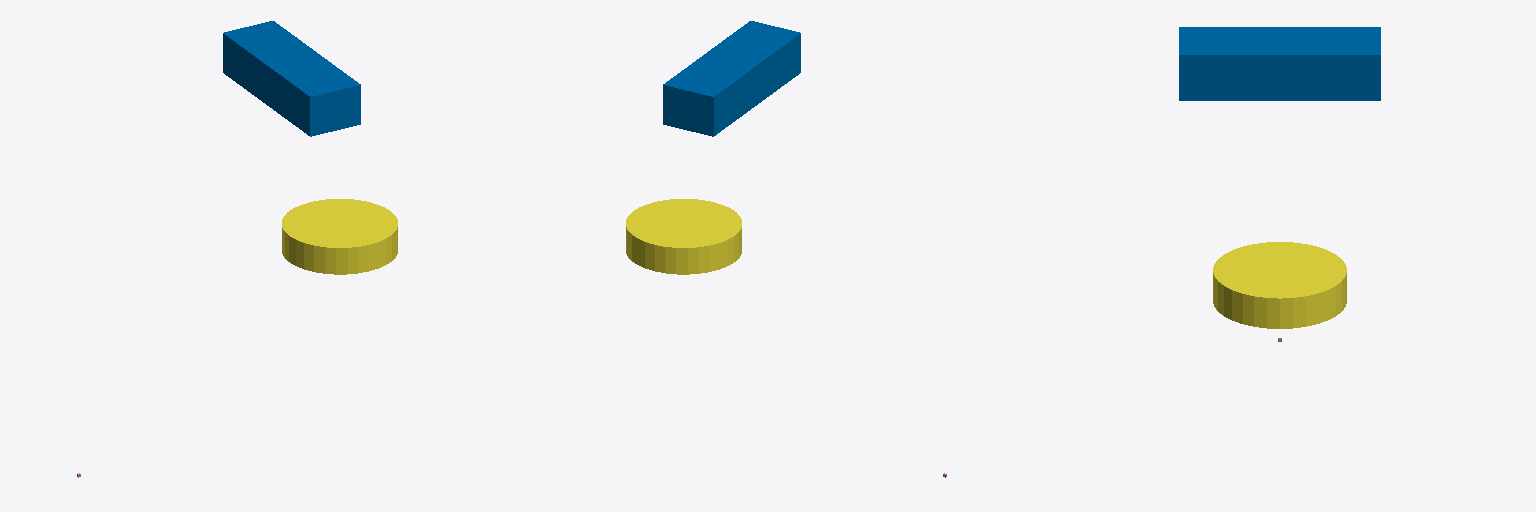
URDF robot description (ackermann):
<?xml version="1.0" ?>
<!--
  Author: [author]
  Date: 2023-02-01
  Description: This file is the URDF file for the Ackermann model we're using for our planning algorithms. The original comes from AgileX robotics 
  but I have modified it to fit our needs. The original can be found here: https://github.com/agilexrobotics/limo_ros
  License: MIT
  -->

<!-- =================================================================================== -->
<!-- |    This document was autogenerated by xacro from limo_ackerman.xacro            | -->
<!-- |    EDITING THIS FILE BY HAND IS NOT RECOMMENDED                                 | -->
<!-- =================================================================================== -->
<robot name="ackermann">
  <transmission name="front_right_wheel_trans" type="SimpleTransmission">
    <type>transmission_interface/SimpleTransmission</type>
    <actuator name="front_right_wheel_motor">
      <hardwareInterface>hardware_interface/VelocityJointInterface</hardwareInterface>
      <mechanicalReduction>1</mechanicalReduction>
    </actuator>
    <joint name="front_right_wheel">
      <hardwareInterface>hardware_interface/VelocityJointInterface</hardwareInterface>
    </joint>
  </transmission>
  <transmission name="front_left_wheel_trans" type="SimpleTransmission">
    <type>transmission_interface/SimpleTransmission</type>
    <actuator name="front_left_wheel_motor">
      <hardwareInterface>hardware_interface/VelocityJointInterface</hardwareInterface>
      <mechanicalReduction>1</mechanicalReduction>
    </actuator>
    <joint name="front_left_wheel">
      <hardwareInterface>hardware_interface/VelocityJointInterface</hardwareInterface>
    </joint>
  </transmission>
  <transmission name="rear_left_wheel_trans" type="SimpleTransmission">
    <type>transmission_interface/SimpleTransmission</type>
    <actuator name="rear_left_wheel_motor">
      <hardwareInterface>hardware_interface/VelocityJointInterface</hardwareInterface>
      <mechanicalReduction>1</mechanicalReduction>
    </actuator>
    <joint name="rear_left_wheel">
      <hardwareInterface>hardware_interface/VelocityJointInterface</hardwareInterface>
    </joint>
  </transmission>
  <transmission name="rear_right_wheel_trans" type="SimpleTransmission">
    <type>transmission_interface/SimpleTransmission</type>
    <actuator name="rear_right_wheel_motor">
      <hardwareInterface>hardware_interface/VelocityJointInterface</hardwareInterface>
      <mechanicalReduction>1</mechanicalReduction>
    </actuator>
    <joint name="rear_right_wheel">
      <hardwareInterface>hardware_interface/VelocityJointInterface</hardwareInterface>
    </joint>
  </transmission>
  <transmission name="left_steering_hinge_wheel_trans" type="SimpleTransmission">
    <type>transmission_interface/SimpleTransmission</type>
    <actuator name="left_steering_hinge_wheel_motor">
      <hardwareInterface>hardware_interface/EffortJointInterface</hardwareInterface>
      <mechanicalReduction>1</mechanicalReduction>
    </actuator>
    <joint name="left_steering_hinge_wheel">
      <hardwareInterface>hardware_interface/EffortJointInterface</hardwareInterface>
    </joint>
  </transmission>
  <transmission name="right_steering_hinge_wheel_trans" type="SimpleTransmission">
    <type>transmission_interface/SimpleTransmission</type>
    <actuator name="right_steering_hinge_wheel_motor">
      <hardwareInterface>hardware_interface/EffortJointInterface</hardwareInterface>
      <mechanicalReduction>1</mechanicalReduction>
    </actuator>
    <joint name="right_steering_hinge_wheel">
      <hardwareInterface>hardware_interface/EffortJointInterface</hardwareInterface>
    </joint>
  </transmission>
  <gazebo reference="laser_link">
    <sensor name="laser_sensor" type="ray">
      <pose>0 0 0 0 0 0</pose>
      <visualize>false</visualize>
      <update_rate>8</update_rate>
      <ray>
        <scan>
          <horizontal>
            <samples>720</samples>
            <resolution>1</resolution>
            <min_angle>-2.09439504</min_angle>
            <max_angle>2.09439504</max_angle>
          </horizontal>
        </scan>
        <range>
          <min>0.05</min>
          <max>8.0</max>
          <resolution>0.01</resolution>
        </range>
        <noise>
          <type>gaussian</type>
          <mean>0.0</mean>
          <stddev>0.01</stddev>
        </noise>
      </ray>
      <plugin filename="libgazebo_ros_laser.so" name="gazebo_ros_laser_sensor">
        <topicName>/limo/scan</topicName>
        <frameName>laser_link</frameName>
      </plugin>
    </sensor>
  </gazebo>
  <gazebo reference="depth_camera_link">
    <sensor name="sensor_camera" type="depth">
      <pose>0.0 0.0 0.0 0.0 0.0 0.0</pose>
      <always_on>true</always_on>
      <visualize>true</visualize>
      <update_rate>10.0</update_rate>
      <camera name="head">
        <horizontal_fov>1.3962634</horizontal_fov>
        <image>
          <width>640</width>
          <height>480</height>
          <format>R8G8B8</format>
        </image>
        <clip>
          <near>0.02</near>
          <far>300</far>
        </clip>
      </camera>
      <plugin filename="libgazebo_ros_openni_kinect.so" name="gazebo_ros_depth_camera_sensor">
        <baseline>0.2</baseline>
        <alwaysOn>true</alwaysOn>
        <!-- Keep this zero, update_rate in the parent <sensor> tag
                will control the frame rate. -->
        <updateRate>0.0</updateRate>
        <cameraName>camera_ir</cameraName>
        <imageTopicName>/limo/color/image_raw</imageTopicName>
        <cameraInfoTopicName>/limo/color/camera_info</cameraInfoTopicName>
        <depthImageTopicName>/limo/depth/image_raw</depthImageTopicName>
        <depthImageCameraInfoTopicName>/limo/depth/camera_info</depthImageCameraInfoTopicName>
        <pointCloudTopicName>/limo/depth/points</pointCloudTopicName>
        <frameName>depth_link</frameName>
        <cameraname>depth_camera_link</cameraname>
        <pointCloudCutoff>0.5</pointCloudCutoff>
        <pointCloudCutoffMax>3.0</pointCloudCutoffMax>
        <distortionK1>0</distortionK1>
        <distortionK2>0</distortionK2>
        <distortionK3>0</distortionK3>
        <distortionT1>0</distortionT1>
        <distortionT2>0</distortionT2>
        <CxPrime>0</CxPrime>
        <Cx>0</Cx>
        <Cy>0</Cy>
        <focalLength>0</focalLength>
        <hackBaseline>0</hackBaseline>
      </plugin>
    </sensor>
  </gazebo>
  <gazebo reference="imu_link">
    <gravity>true</gravity>
    <sensor name="imu_sensor" type="imu">
      <always_on>true</always_on>
      <update_rate>100</update_rate>
      <visualize>true</visualize>
      <topic>__default_topic__</topic>
      <plugin filename="libgazebo_ros_imu_sensor.so" name="imu_plugin">
        <topicName>/limo/imu</topicName>
        <bodyName>imu_link</bodyName>
        <updateRateHZ>100.0</updateRateHZ>
        <gaussianNoise>0.001</gaussianNoise>
        <xyzOffset>0 0 0</xyzOffset>
        <rpyOffset>0 0 0</rpyOffset>
        <frameName>imu_link</frameName>
      </plugin>
      <pose>0 0 0 0 0 0</pose>
    </sensor>
  </gazebo>
  <gazebo>
    <mu1 value="10"/>
    <mu2 value="10"/>
    <kp value="10000000.0"/>
    <kd value="1.0"/>
    <fdir1 value="1 0 0"/>
    <minDepth value="0.001"/>
    <maxContacts value="64"/>
  </gazebo>
  <gazebo>
    <plugin filename="libgazebo_ros_control.so" name="gazebo_ros_control">
      <robotNamespace>/</robotNamespace>
    </plugin>
    <plugin filename="libgazebo_ros_ackerman.so" name="four_diff_controller">
      <updateRate>100.0</updateRate>
      <robotNamespace>/</robotNamespace>
      <leftFrontJoint>front_left_wheel</leftFrontJoint>
      <rightFrontJoint>front_right_wheel</rightFrontJoint>
      <leftRearJoint>rear_left_wheel</leftRearJoint>
      <rightRearJoint>rear_right_wheel</rightRearJoint>
      <leftHingeJoint>left_steering_hinge_wheel</leftHingeJoint>
      <rightHingeJoint>right_steering_hinge_wheel</rightHingeJoint>
      <wheelSeparation>0.172</wheelSeparation>
      <wheelDiameter>0.09</wheelDiameter>
      <robotBaseFrame>base_footprint</robotBaseFrame>
      <commandTopic>cmd_vel</commandTopic>
      <torque>50</torque>
      <broadcastTF>true</broadcastTF>
      <odometryTopic>odom</odometryTopic>
      <odometryFrame>odom</odometryFrame>
      <covariance_x>0.000100</covariance_x>
      <covariance_y>0.000100</covariance_y>
      <covariance_yaw>0.010000</covariance_yaw>
    </plugin>
  </gazebo>
  <link name="base_footprint"/>
  <joint name="base_joint" type="fixed">
    <parent link="base_footprint"/>
    <child link="base_link"/>
    <origin rpy="0 0 0" xyz="0.0 0.0 0.15"/>
  </joint>
  <!-- Base link -->
  <link name="base_link">
    <visual>
      <origin rpy="0 0 1.57" xyz="0 0 -0.15"/>
      <geometry>
        <mesh filename="package://ackermann/meshes/limo_base.dae" scale="1 1 1"/>
      </geometry>
    </visual>
    <collision>
      <origin rpy="0 0 0" xyz="0 0 0"/>
      <geometry>
        <box size="0.13 0.12 0.1"/>
      </geometry>
    </collision>
  </link>
  <link name="inertial_link">
    <inertial>
      <origin xyz="0.0 0.0 0.0"/>
      <mass value="2.1557"/>
      <inertia ixx="0.24" ixy="0" ixz="0" iyy="0.96" iyz="0" izz="0.96"/>
    </inertial>
  </link>
  <joint name="inertial_joint" type="fixed">
    <origin rpy="0 0 0" xyz="0 0 0"/>
    <parent link="base_link"/>
    <child link="inertial_link"/>
  </joint>
  <link name="laser_link">
    <pose>0 0 0 0 0 0</pose>
    <inertial>
      <mass value="0.1"/>
      <origin rpy="0 0 0" xyz="0.0 0 0"/>
      <inertia ixx="1e-6" ixy="0" ixz="0" iyy="1e-6" iyz="0" izz="1e-6"/>
    </inertial>
    <visual name="laser_visual">
      <origin rpy="0 0 0" xyz="0 0 0"/>
      <geometry>
        <cylinder length="0.01" radius="0.02"/>
      </geometry>
      <!-- <material name="laser_material">
        <ambient>0.1 0.1 0.1 1</ambient>
        <diffuse>0.1 0.1 0.2 1</diffuse>
        <specular>0 0 0 0</specular>
        <emissive>0 0 0 1</emissive>
      </material> -->
    </visual>
    <collision name="laser_collision">
      <origin rpy="0 0 0" xyz="0 0 0"/>
      <geometry>
        <cylinder length="0.016" radius="0.032"/>
      </geometry>
    </collision>
  </link>
  <joint name="laser_joint" type="fixed">
    <origin rpy="0 0 0" xyz="0.103 0 -0.034"/>
    <child link="laser_link"/>
    <parent link="base_link"/>
  </joint>
  <gazebo reference="laser_link">
    <material>Gazebo/Yellow</material>
  </gazebo>
  <link name="depth_camera_link">
    <pose>0 0 0 0 0 0</pose>
    <inertial>
      <mass value="0.1"/>
      <origin rpy="0 0 0" xyz="0.0 0 0"/>
      <inertia ixx="1e-6" ixy="0" ixz="0" iyy="1e-6" iyz="0" izz="1e-6"/>
    </inertial>
    <visual name="depth_camera_visual">
      <origin rpy="0 0 0" xyz="0 0 0"/>
      <geometry>
        <box size="0.02 0.06 0.015"/>
      </geometry>
      <!-- <material name="depth_camera_material"> -->
        <!-- <ambient>0.1 0.1 0.1 1</ambient>
        <diffuse>0.1 0.1 0.2 1</diffuse>
        <specular>0 0 0 0</specular>
        <emissive>0 0 0 1</emissive> -->
      <!-- </material> -->
    </visual>
    <collision name="depth_camera_collision">
      <origin rpy="0 0 0" xyz="0 0 0"/>
      <geometry>
        <box size="0.02 0.06 0.015"/>
      </geometry>
    </collision>
  </link>
  <joint name="depth_camera_joint" type="fixed">
    <origin rpy="0 0 0" xyz="0.084 0 0.03"/>
    <child link="depth_camera_link"/>
    <parent link="base_link"/>
  </joint>
  <link name="depth_link"/>
  <joint name="depth_camera_to_camera_joint" type="fixed">
    <origin rpy="-1.570795 0 -1.570795 " xyz="0 0 0"/>
    <parent link="depth_camera_link"/>
    <child link="depth_link"/>
  </joint>
  <gazebo reference="depth_camera_link">
    <material>Gazebo/Yellow</material>
  </gazebo>
  <link name="imu_link">
    <pose>0 0 0 0 0 0</pose>
    <inertial>
      <mass value="0.01"/>
      <origin rpy="0 0 0" xyz="0.0 0 0"/>
      <inertia ixx="1e-7" ixy="0" ixz="0" iyy="1e-7" iyz="0" izz="1e-7"/>
    </inertial>
    <visual name="imu_visual">
      <origin rpy="0 0 0" xyz="0 0 0"/>
      <geometry>
        <box size="0.001 0.001 0.001"/>
      </geometry>
      <!-- <material name="imu_material"> -->
        <!-- <ambient>0.1 0.1 0.1 1</ambient>
        <diffuse>0.1 0.1 0.2 1</diffuse>
        <specular>0 0 0 0</specular>
        <emissive>0 0 0 1</emissive> -->
      <!-- </material> -->
    </visual>
    <collision name="imu_collision">
      <origin rpy="0 0 0" xyz="0 0 0"/>
      <geometry>
        <box size="0.001 0.001 0.001"/>
      </geometry>
    </collision>
  </link>
  <joint name="imu_joint" type="fixed">
    <origin rpy="0 0 0" xyz="0.0 0 -0.1"/>
    <child link="imu_link"/>
    <parent link="base_link"/>
  </joint>
  <gazebo reference="imu_link">
    <material>Gazebo/Yellow</material>
  </gazebo>
  <link name="left_steering_hinge">
    <inertial>
      <mass value="0.25"/>
      <inertia ixx="0.00525" ixy="0" ixz="0" iyy="0.00035" iyz="0" izz="0.00525"/>
      <origin xyz="0 0 0"/>
    </inertial>
    <visual>
      <origin rpy="0 0 0" xyz="0 0 0"/>
      <geometry>
        <cylinder length="0.0001" radius="0.0001"/>
      </geometry>
    </visual>
    <collision>
      <origin rpy="1.57 0 0" xyz="0 0.0225 0"/>
      <geometry>
        <cylinder length="0.045" radius="0.034999999999999996"/>
      </geometry>
    </collision>
  </link>
  <joint name="left_steering_hinge_wheel" type="revolute">
    <parent link="base_link"/>
    <child link="left_steering_hinge"/>
    <origin rpy="0 0  0" xyz="0.1 0.07 -0.100998"/>
    <axis xyz="0 0 1"/>
    <limit effort="5" lower="-0.523598767" upper="0.523598767" velocity="0.5"/>
    <dynamics damping="1.0" friction="2.0"/>
  </joint>
  <link name="front_left_wheel_link">
    <inertial>
      <mass value="0.25"/>
      <inertia ixx="0.00525" ixy="0" ixz="0" iyy="0.00035" iyz="0" izz="0.00525"/>
      <origin xyz="0 0 0"/>
    </inertial>
    <visual>
      <origin rpy="0 0 0" xyz="0 0 0"/>
      <geometry>
        <mesh filename="package://ackermann/meshes/limo_wheel.dae"/>
      </geometry>
    </visual>
    <collision>
      <origin rpy="1.57 0 0" xyz="0 0.0225 0"/>
      <geometry>
        <cylinder length="0.045" radius="0.045"/>
      </geometry>
    </collision>
  </link>
  <joint name="front_left_wheel" type="continuous">
    <parent link="left_steering_hinge"/>
    <child link="front_left_wheel_link"/>
    <origin rpy="0 0  0" xyz="0 0 0"/>
    <axis xyz="0 1 0"/>
  </joint>
  <link name="right_steering_hinge">
    <inertial>
      <mass value="0.25"/>
      <inertia ixx="0.00525" ixy="0" ixz="0" iyy="0.00035" iyz="0" izz="0.00525"/>
      <origin xyz="0 0 0"/>
    </inertial>
    <visual>
      <origin rpy="0 0 0" xyz="0 0 0"/>
      <geometry>
        <cylinder length="0.0001" radius="0.0001"/>
      </geometry>
    </visual>
    <collision>
      <origin rpy="1.57 0 0" xyz="0 0.0225 0"/>
      <geometry>
        <cylinder length="0.045" radius="0.034999999999999996"/>
      </geometry>
    </collision>
  </link>
  <joint name="right_steering_hinge_wheel" type="revolute">
    <parent link="base_link"/>
    <child link="right_steering_hinge"/>
    <origin rpy="3.14159 0 0" xyz="0.1 -0.07 -0.100998"/>
    <axis xyz="0 0 -1"/>
    <limit effort="5" lower="-0.523598767" upper="0.523598767" velocity="0.5"/>
    <dynamics damping="1.0" friction="2.0"/>
  </joint>
  <link name="front_right_wheel_link">
    <inertial>
      <mass value="0.25"/>
      <inertia ixx="0.00525" ixy="0" ixz="0" iyy="0.00035" iyz="0" izz="0.00525"/>
      <origin xyz="0 0 0"/>
    </inertial>
    <visual>
      <origin rpy="0 0 0" xyz="0 0 0"/>
      <geometry>
        <mesh filename="package://ackermann/meshes/limo_wheel.dae"/>
      </geometry>
    </visual>
    <collision>
      <origin rpy="1.57 0 0" xyz="0 0.0225 0"/>
      <geometry>
        <cylinder length="0.045" radius="0.045"/>
      </geometry>
    </collision>
  </link>
  <joint name="front_right_wheel" type="continuous">
    <parent link="right_steering_hinge"/>
    <child link="front_right_wheel_link"/>
    <origin rpy="0 0  0" xyz="0 0 0"/>
    <axis xyz="0 -1 0"/>
  </joint>
  <link name="rear_left_wheel_link">
    <inertial>
      <origin xyz="0 0 0"/>
      <mass value="0.5"/>
      <inertia ixx="0.01055" ixy="0" ixz="0" iyy="0.00075" iyz="0" izz="0.01055"/>
    </inertial>
    <visual>
      <origin rpy="0 0 0" xyz="0 0 0"/>
      <geometry>
        <mesh filename="package://ackermann/meshes/limo_wheel.dae"/>
      </geometry>
    </visual>
    <collision>
      <origin rpy="1.57 0 0" xyz="0 0.0225 0"/>
      <geometry>
        <cylinder length="0.045" radius="0.045"/>
      </geometry>
    </collision>
  </link>
  <joint name="rear_left_wheel" type="continuous">
    <parent link="base_link"/>
    <child link="rear_left_wheel_link"/>
    <origin rpy="0 0 0" xyz="-0.1 0.07 -0.100998"/>
    <axis xyz="0 1 0"/>
  </joint>
  <link name="rear_right_wheel_link">
    <inertial>
      <origin xyz="0 0 0"/>
      <mass value="0.5"/>
      <inertia ixx="0.01055" ixy="0" ixz="0" iyy="0.00075" iyz="0" izz="0.01055"/>
    </inertial>
    <visual>
      <origin rpy="0 0 0" xyz="0 0 0"/>
      <geometry>
        <mesh filename="package://ackermann/meshes/limo_wheel.dae"/>
      </geometry>
    </visual>
    <collision>
      <origin rpy="1.57 0 0" xyz="0 0.0225 0"/>
      <geometry>
        <cylinder length="0.045" radius="0.045"/>
      </geometry>
    </collision>
  </link>
  <joint name="rear_right_wheel" type="continuous">
    <parent link="base_link"/>
    <child link="rear_right_wheel_link"/>
    <origin rpy="3.14159 0 0" xyz="-0.1 -0.07 -0.100998"/>
    <axis xyz="0 -1 0"/>
  </joint>
</robot>

--- What the picture shows (computed from the rendered views, not written in the file) ---
Views: 3 orthographic renders of the robot side by side, from view 1: azimuth 30°, elevation 25°; view 2: azimuth 150°, elevation 25°; view 3: azimuth 270°, elevation 25°.
Robot: ackermann — 13 links, 12 joints (2 revolute, 4 continuous, 6 fixed); root link base_footprint; default pose: all joints at 0.
Visible links, largest first — view 1: depth_camera_link, laser_link; view 2: depth_camera_link, laser_link; view 3: depth_camera_link, laser_link.
Link boxes in pixels (<box>): depth_camera_link: <box>223,21,360,136</box>; laser_link: <box>282,199,397,274</box>; depth_camera_link: <box>663,21,800,136</box>; laser_link: <box>626,199,741,274</box>; depth_camera_link: <box>1179,27,1380,100</box>; laser_link: <box>1213,242,1346,328</box>.
Bounding box of the posed robot: 0.1235 × 0.1402 × 0.1385 m (x, y, z).
Meshes: 2 distinct files referenced, 0 mesh visuals loaded (none loaded); not drawn: 5 (reference not matched to a file when rendering).
